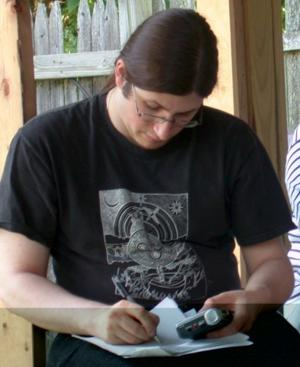person: (2, 9, 296, 363)
